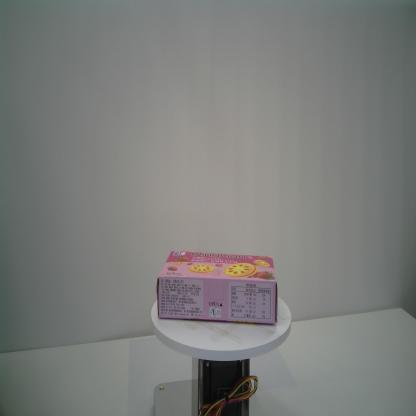Dessert: (156, 248, 280, 328)
